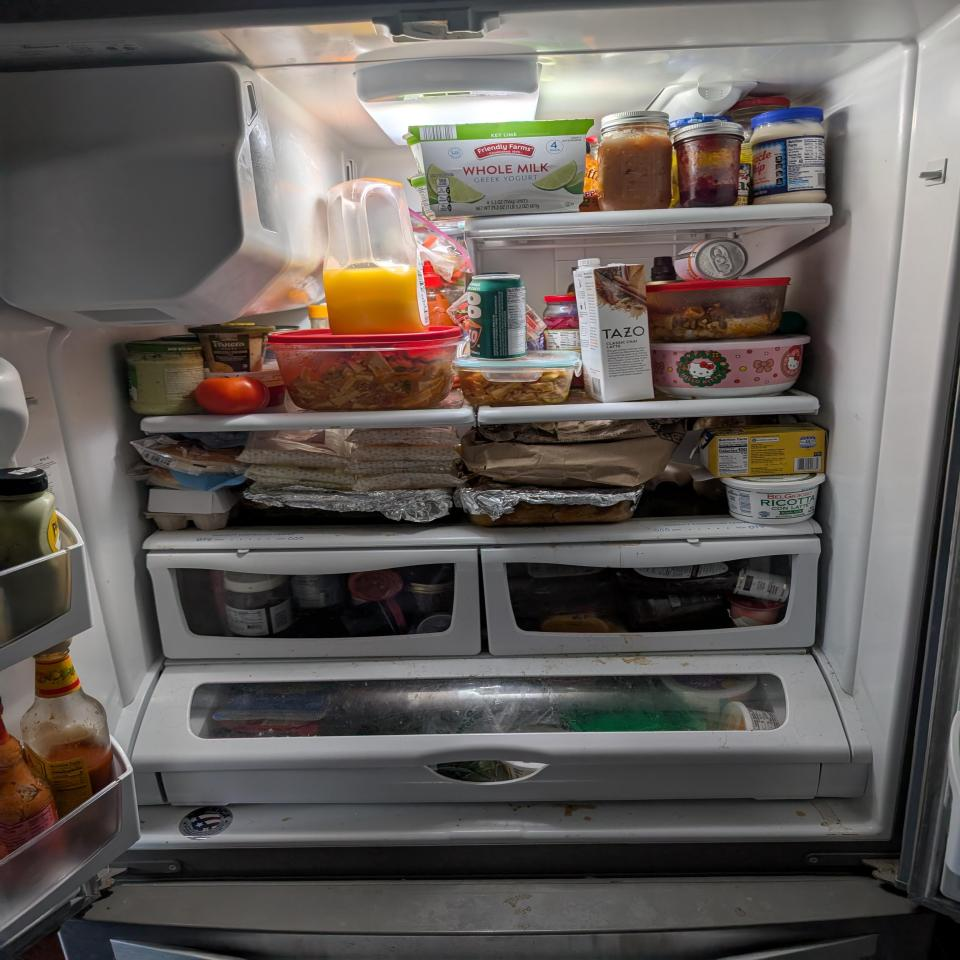Huevos: (142, 489, 238, 530)
Mantequilla: (696, 422, 829, 478)
Tomate: (194, 375, 271, 415)
